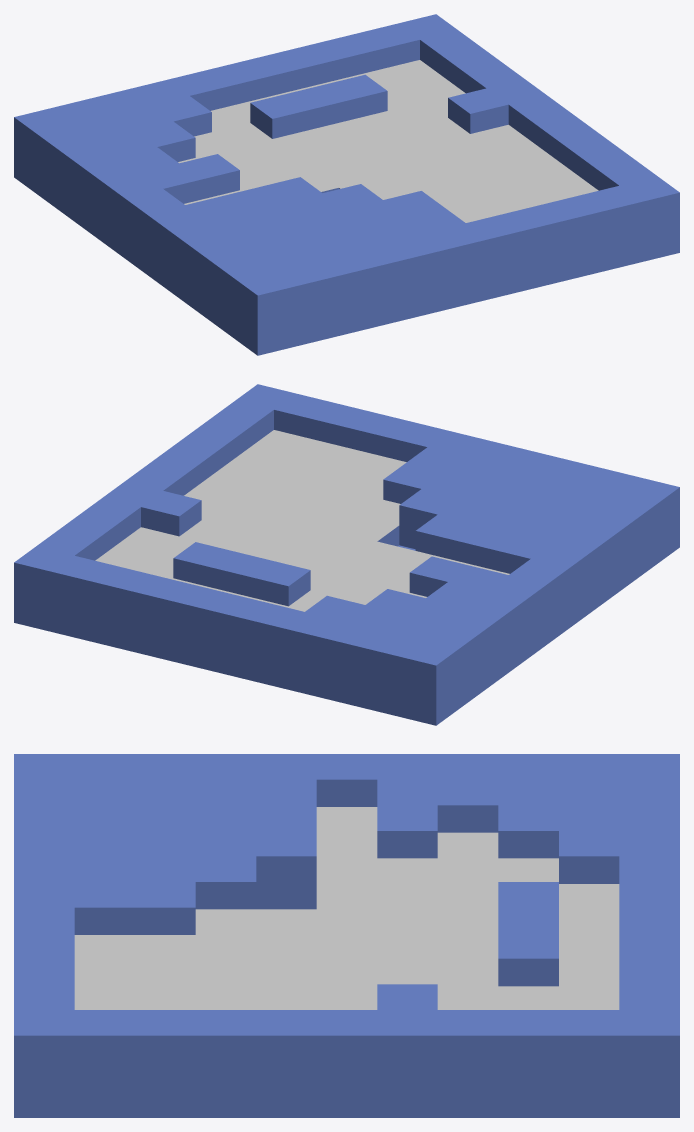
Rendered from 036_platform.fbx.
3 views of the same model, one above another, from view 1: azimuth 30°, elevation 25°; view 2: azimuth 150°, elevation 25°; view 3: azimuth 270°, elevation 25° (orthographic). The views are drawn at different scales.
Visible parts, largest first — view 1: Cube; view 2: Cube; view 3: Cube.
Boxes of the visible parts, x1,y1,x2,y2 form: Cube: [14, 14, 679, 355]; Cube: [14, 384, 679, 725]; Cube: [14, 754, 679, 1117].
Size of the model in its own units: 1100 by 150 by 1100.
